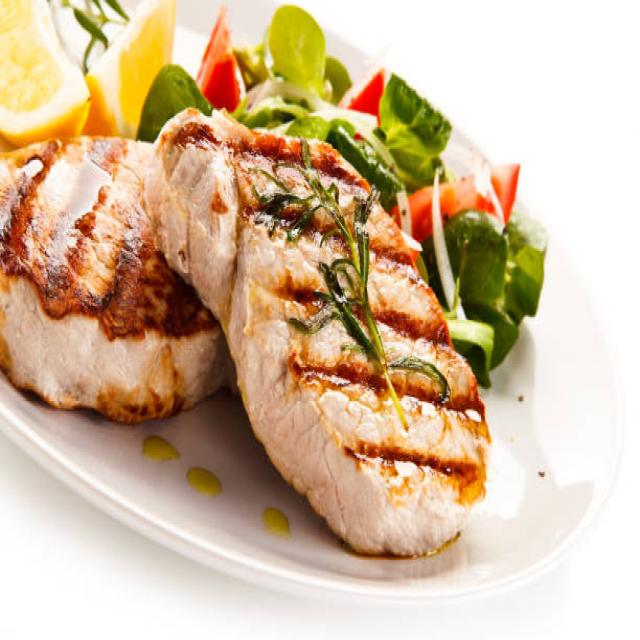Frango: (0, 80, 494, 562)
